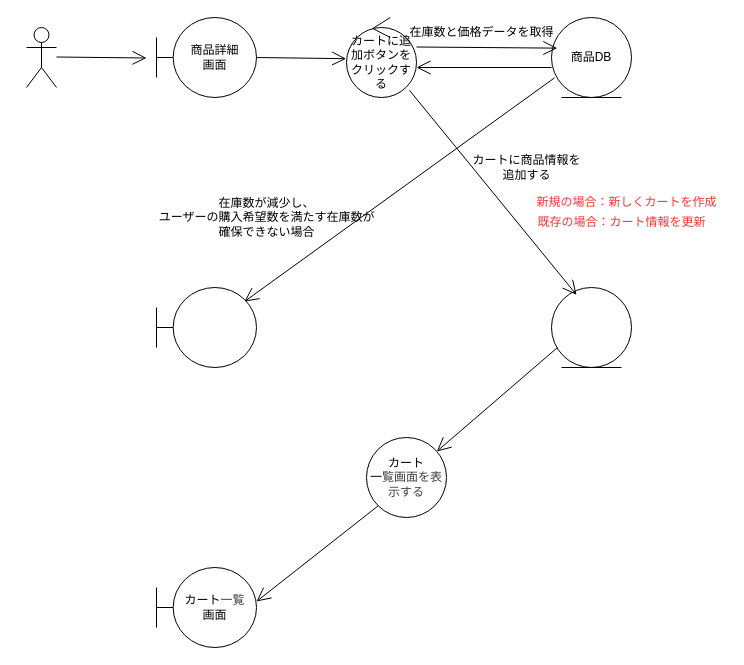
This 744x665 diagram has some shape labels left out. Here are the shapes that lost their labels. From the top down, the centre of each, then its label:
the point at 41,57: ユーザー
the point at 206,327: エラー画面
the point at 591,327: カートDB
